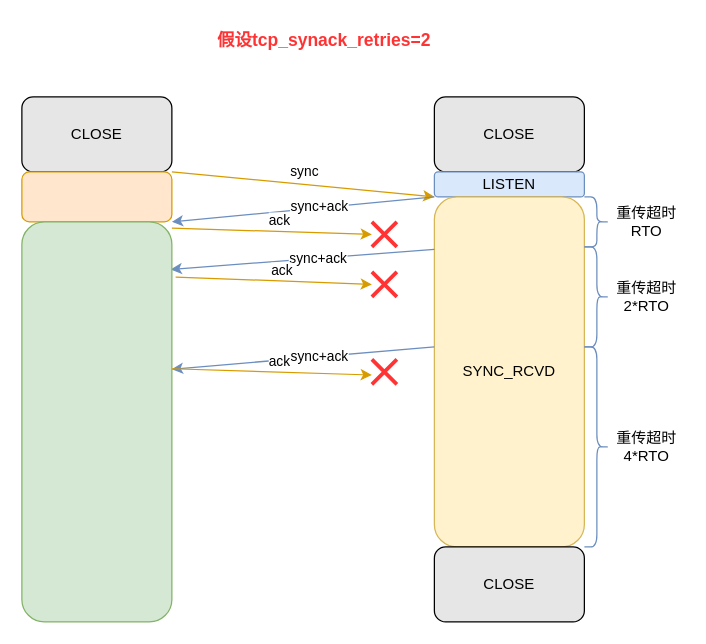
The diagram is 706 pixels wide and 644 high, and some of its shapes have lost their labels. Each missing label, with the centre of its shape:
"ESTABLISH" belongs at point 96,421.
"SYNC_SENT" belongs at point 96,196.
